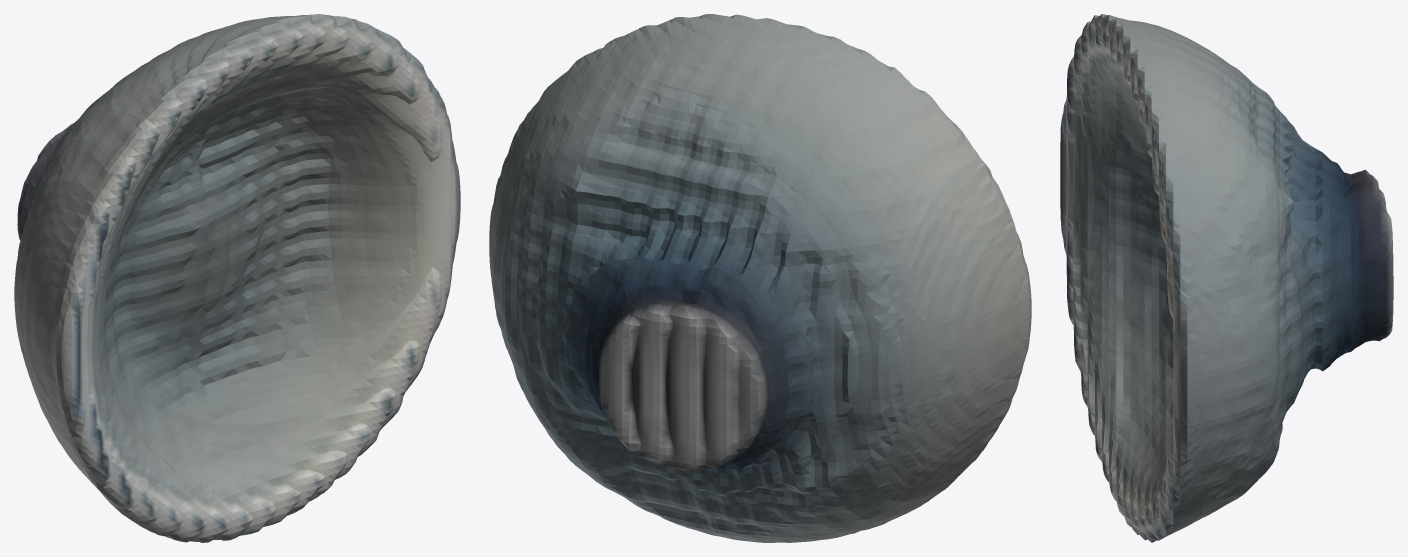
The picture shows the model from 3 angles, left to right: view 1: azimuth 30°, elevation 25°; view 2: azimuth 150°, elevation 25°; view 3: azimuth 270°, elevation 25°; orthographic projection. The views are drawn at different scales.
Parts seen in each view (by area): view 1: world; view 2: world; view 3: world.
Boxes of the visible parts, x1,y1,x2,y2 form: world: [14, 14, 460, 542]; world: [489, 14, 1031, 542]; world: [1060, 14, 1393, 542].
Bounding box in the file's own units: 0.989 × 1.02 × 0.6411.
